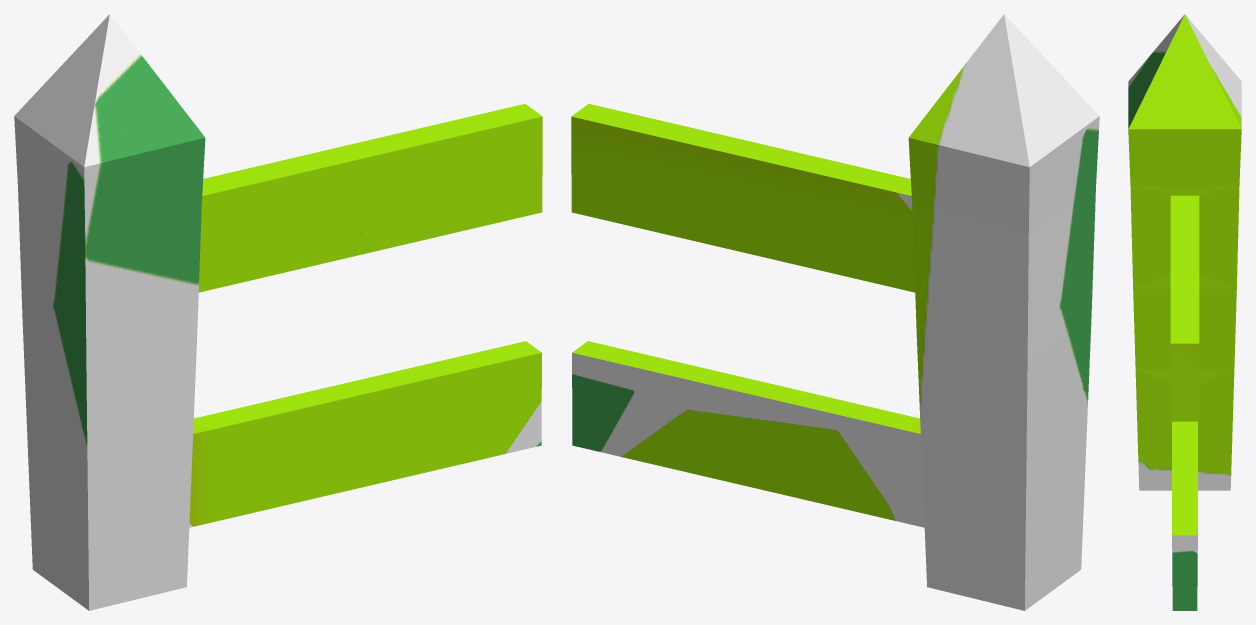
File: Wooden_Fence_1.fbx
3 views of the same model, side by side, from view 1: azimuth 30°, elevation 25°; view 2: azimuth 150°, elevation 25°; view 3: azimuth 270°, elevation 25° (orthographic). The views are drawn at different scales.
Visible parts, largest first — view 1: Wooden_Fence_1; view 2: Wooden_Fence_1; view 3: Wooden_Fence_1.
Part boxes in pixels (x1,y1,x2,y2): Wooden_Fence_1: [14, 14, 542, 610]; Wooden_Fence_1: [571, 14, 1099, 610]; Wooden_Fence_1: [1128, 14, 1241, 610].
Bounding box in the file's own units: 253 × 281 × 63.17.
